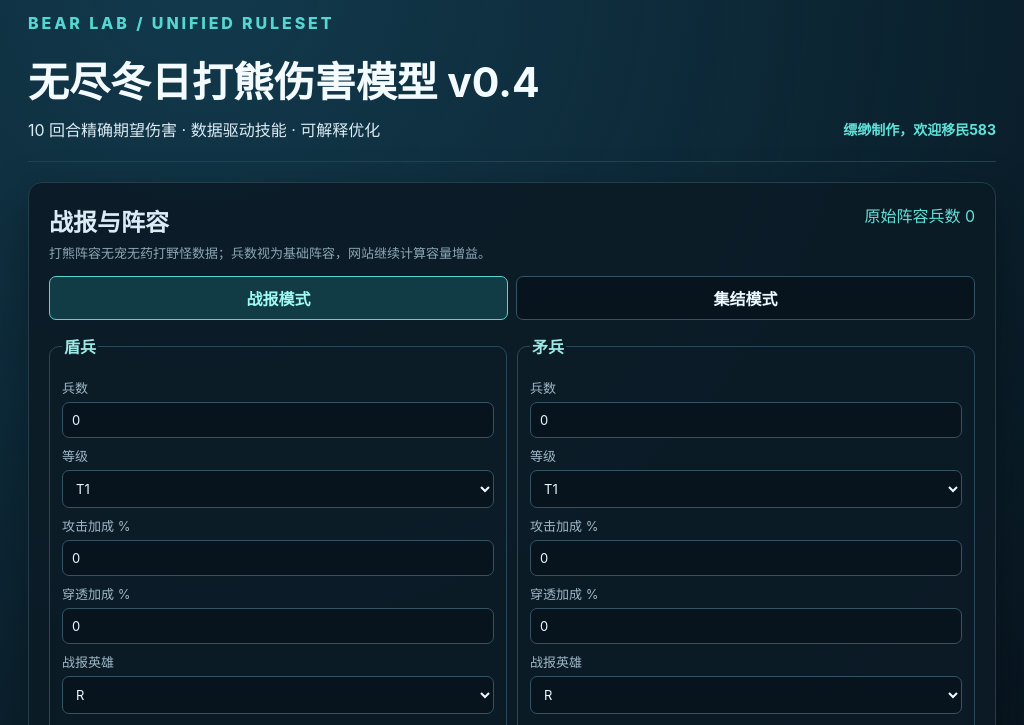
it: 计算器UI有限选项与技能说明 › 修改三兵种输入会实时更新只读基础阵容兵数
Replace the text in the number field named "盾兵兵数" with "1" at coordinates (278, 420), box [62,402,494,438]
(page scrolled)
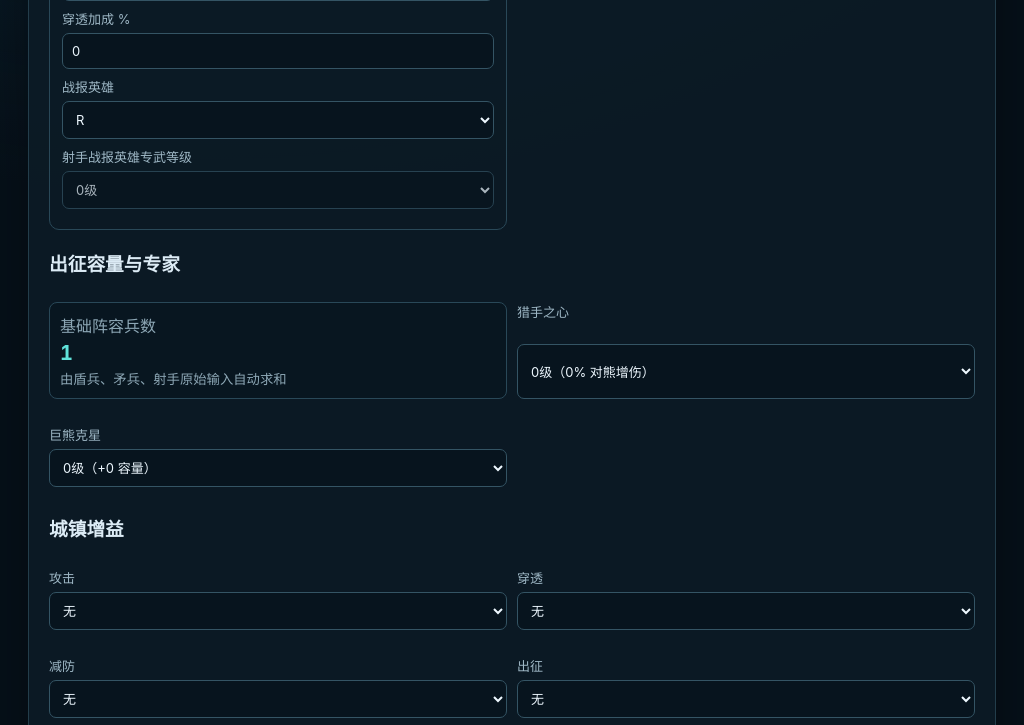
expect the text "1" is shown: met, box [60,341,73,365]
